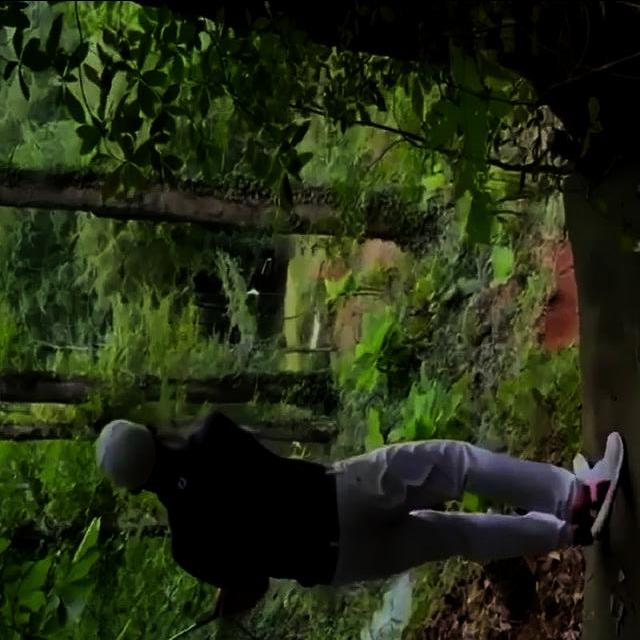golf club-handle: (167, 614, 219, 640)
